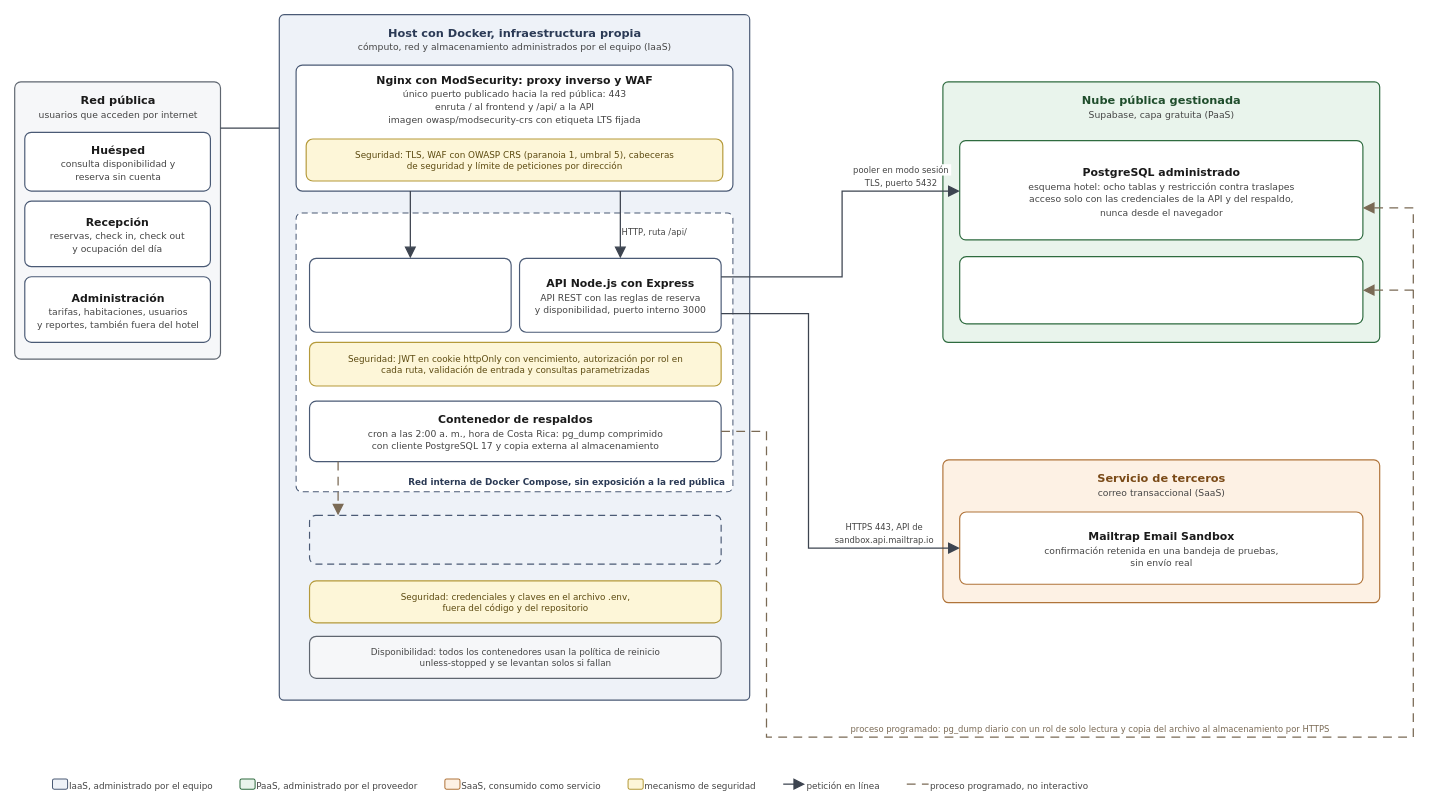
The diagram is 1439 pixels wide and 810 high, and some of its shapes have lost their labels. The shapes that lost their labels are listed below. From the top down, each one's centre as x and y in pixels, then its label:
At point (249, 119): "HTTPS 443".
At point (439, 231): "HTTP, ruta /".
At point (410, 294): "Frontend React archivos estáticos compilados con Vite, puerto interno 80".
At point (1161, 290): "Almacenamiento de objetos bucket privado con la copia externa de los respaldos".
At point (515, 539): "Volumen de Docker copia local de los respaldos: se conservan los últimos siete".
